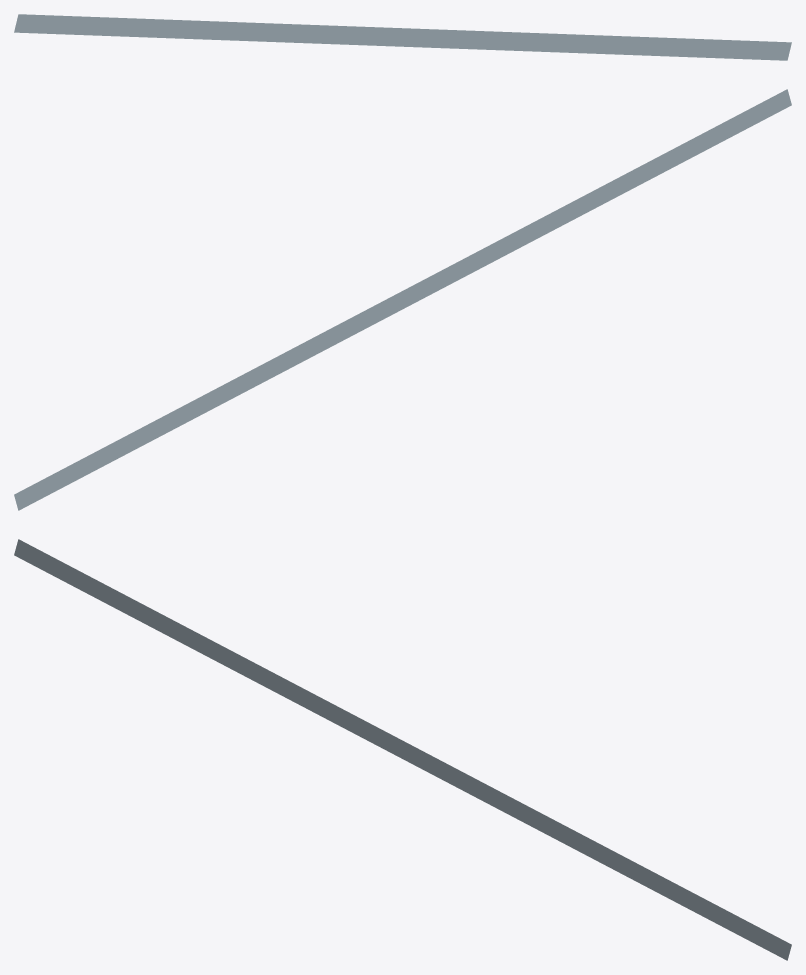
File: kd_stage_135d18_4_72_bounded_piece_7.glb
3 views of the same model, one above another, from view 1: azimuth 30°, elevation 25°; view 2: azimuth 210°, elevation 25°; view 3: azimuth 330°, elevation 25° (orthographic).
Visible parts, largest first — view 1: kd_stage_135d18_4_72_bounded_piece_7; view 2: kd_stage_135d18_4_72_bounded_piece_7; view 3: kd_stage_135d18_4_72_bounded_piece_7.
Boxes of the visible parts, x1,y1,x2,y2 form: kd_stage_135d18_4_72_bounded_piece_7: (14, 14, 791, 60); kd_stage_135d18_4_72_bounded_piece_7: (14, 89, 791, 510); kd_stage_135d18_4_72_bounded_piece_7: (14, 539, 791, 960).
Size of the model in its own units: 1.36 by 0.3913 by 0.
Materials: 1 (1 with a texture image).
